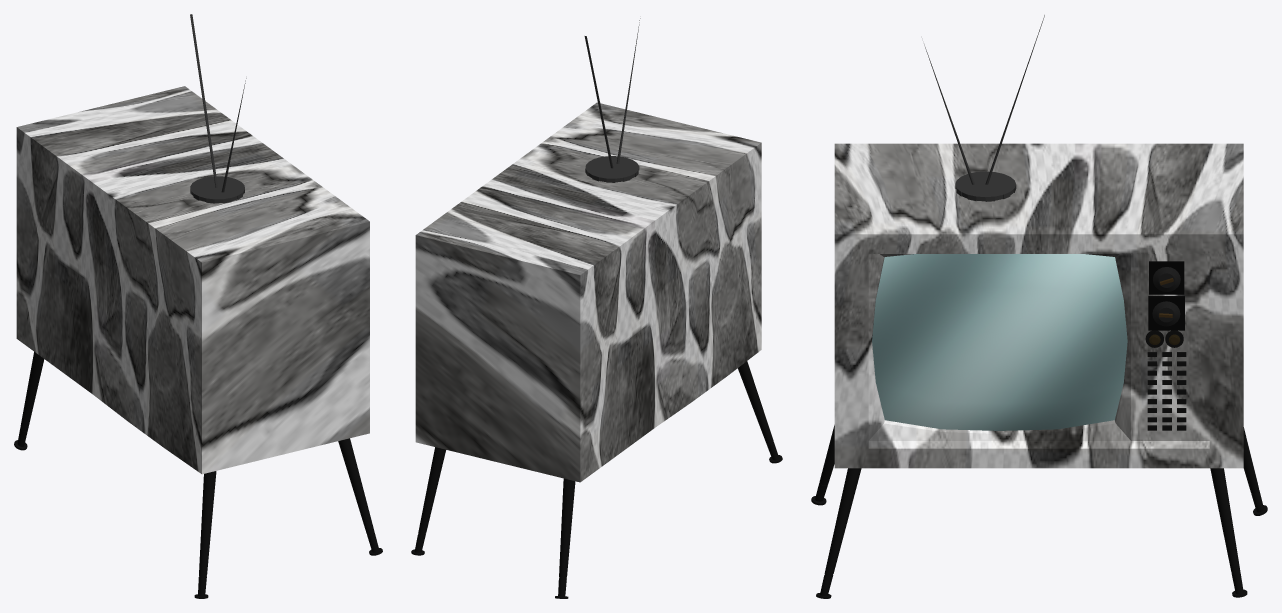
File: tele.obj
3 renders of one model, left to right at view 1: azimuth 30°, elevation 25°; view 2: azimuth 150°, elevation 25°; view 3: azimuth 270°, elevation 25°, orthographic. The views are drawn at different scales.
Visible parts, largest first — view 1: TV01:TV TV01:TV_2:polySurface1 TV01:TV_2:pCube1, TV01:TV TV01:TV_2:pasted__pCylinder3 TV01:TV_2:group11, TV01:TV TV01:TV_2:pCylinder3, TV01:TV TV01:TV_2:pCylinder4, TV01:TV TV01:TV_2:pasted__pasted__pCylinder3 TV01:TV_2:pasted__g, TV01:TV TV01:TV_2:pasted__pCylinder5 TV01:TV_2:group15; view 2: TV01:TV TV01:TV_2:polySurface1 TV01:TV_2:pCube1, TV01:TV TV01:TV_2:pasted__pasted__pCylinder3 TV01:TV_2:pasted__g, TV01:TV TV01:TV_2:pCylinder4, TV01:TV TV01:TV_2:pasted__pCylinder3 TV01:TV_2:group12, TV01:TV TV01:TV_2:pasted__pCylinder3 TV01:TV_2:group11; view 3: TV01:TV TV01:TV_2:polySurface1 TV01:TV_2:pCube1, TV01:TV TV01:TV_2:pCube1 TV01:TV_2:polySurface2, TV01:TV TV01:TV_2:pasted__pCylinder3 TV01:TV_2:group12, TV01:TV TV01:TV_2:pCylinder3, TV01:TV TV01:TV_2:pCylinder4, TV01:TV TV01:TV_2:pCube4, TV01:TV TV01:TV_2:pasted__pasted__pCylinder3 TV01:TV_2:pasted__g, TV01:TV TV01:TV_2:pCube2, TV01:TV TV01:TV_2:pasted__pCylinder3 TV01:TV_2:group11.
Part boxes in pixels (x1=…): TV01:TV TV01:TV_2:polySurface1 TV01:TV_2:pCube1: x1=16, y1=86, x2=369, y2=474; TV01:TV TV01:TV_2:pasted__pCylinder3 TV01:TV_2:group11: x1=194, y1=471, x2=216, y2=598; TV01:TV TV01:TV_2:pCylinder3: x1=338, y1=438, x2=382, y2=555; TV01:TV TV01:TV_2:pCylinder4: x1=190, y1=176, x2=244, y2=203; TV01:TV TV01:TV_2:pasted__pasted__pCylinder3 TV01:TV_2:pasted__g: x1=14, y1=351, x2=44, y2=450; TV01:TV TV01:TV_2:pasted__pCylinder5 TV01:TV_2:group15: x1=190, y1=14, x2=217, y2=187; TV01:TV TV01:TV_2:polySurface1 TV01:TV_2:pCube1: x1=415, y1=102, x2=761, y2=482; TV01:TV TV01:TV_2:pasted__pasted__pCylinder3 TV01:TV_2:pasted__g: x1=555, y1=478, x2=575, y2=598; TV01:TV TV01:TV_2:pCylinder4: x1=585, y1=156, x2=639, y2=182; TV01:TV TV01:TV_2:pasted__pCylinder3 TV01:TV_2:group12: x1=411, y1=447, x2=445, y2=555; TV01:TV TV01:TV_2:pasted__pCylinder3 TV01:TV_2:group11: x1=737, y1=361, x2=782, y2=463; TV01:TV TV01:TV_2:polySurface1 TV01:TV_2:pCube1: x1=834, y1=143, x2=1243, y2=468; TV01:TV TV01:TV_2:pCube1 TV01:TV_2:polySurface2: x1=872, y1=254, x2=1127, y2=430; TV01:TV TV01:TV_2:pasted__pCylinder3 TV01:TV_2:group12: x1=1210, y1=468, x2=1247, y2=597; TV01:TV TV01:TV_2:pCylinder3: x1=816, y1=468, x2=861, y2=598; TV01:TV TV01:TV_2:pCylinder4: x1=955, y1=171, x2=1016, y2=201; TV01:TV TV01:TV_2:pCube4: x1=1148, y1=296, x2=1184, y2=330; TV01:TV TV01:TV_2:pasted__pasted__pCylinder3 TV01:TV_2:pasted__g: x1=1243, y1=427, x2=1267, y2=515; TV01:TV TV01:TV_2:pCube2: x1=1149, y1=261, x2=1184, y2=294; TV01:TV TV01:TV_2:pasted__pCylinder3 TV01:TV_2:group11: x1=811, y1=425, x2=834, y2=505.
Bounding box in the file's own units: 0.3622 × 0.8938 × 0.6868.
Materials: 9 (2 with a texture image).
